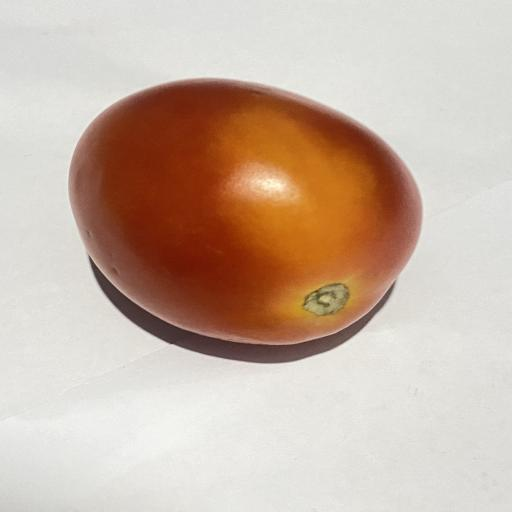ripe: (69, 79, 421, 344)
